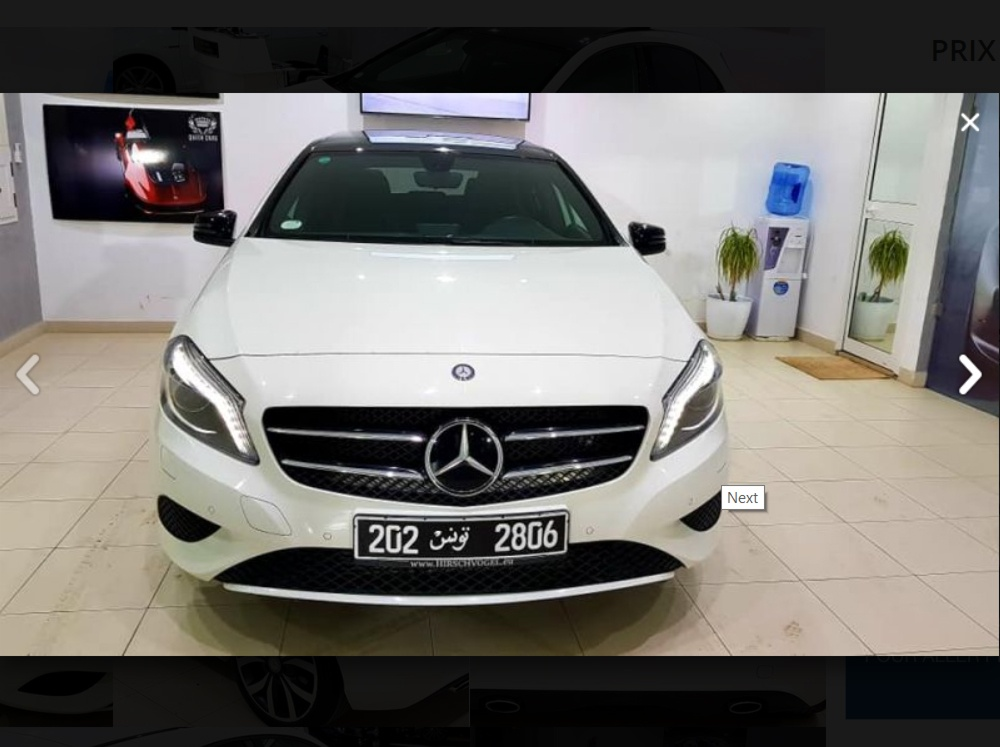LP: (350, 507, 571, 564)
